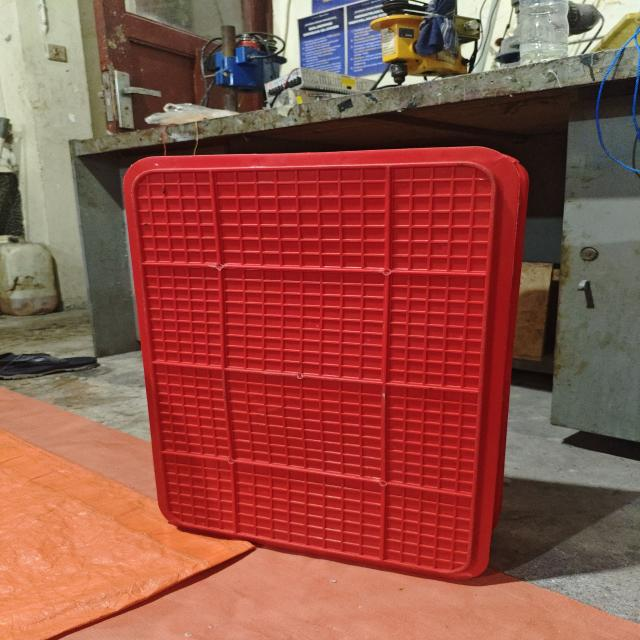red plastic box: (123, 146, 529, 580)
